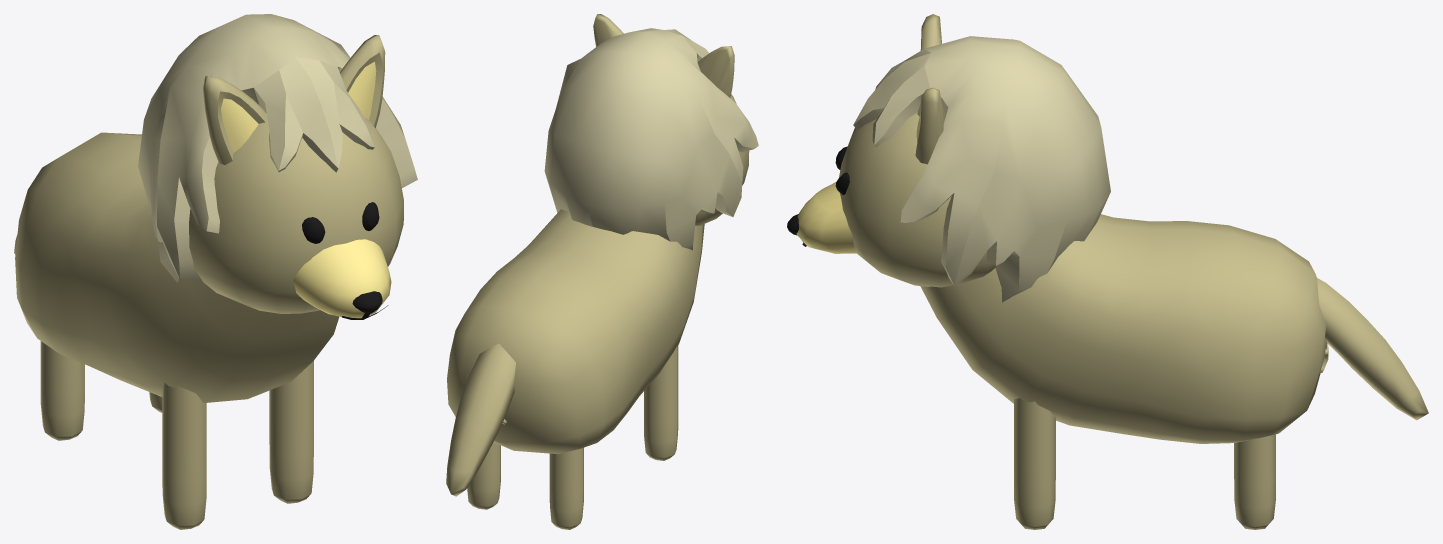
Rendered from Wolf.fbx.
3 views of the same model, side by side, from view 1: azimuth 30°, elevation 25°; view 2: azimuth 150°, elevation 25°; view 3: azimuth 270°, elevation 25° (orthographic). The views are drawn at different scales.
Parts seen in each view (by area): view 1: Wolf; view 2: Wolf; view 3: Wolf.
Boxes of the visible parts, left/top/right/bottom form: Wolf: left=14, top=14, right=417, bottom=529; Wolf: left=446, top=14, right=758, bottom=529; Wolf: left=787, top=14, right=1428, bottom=529.
Bounding box in the file's own units: 119 × 242 × 306.
